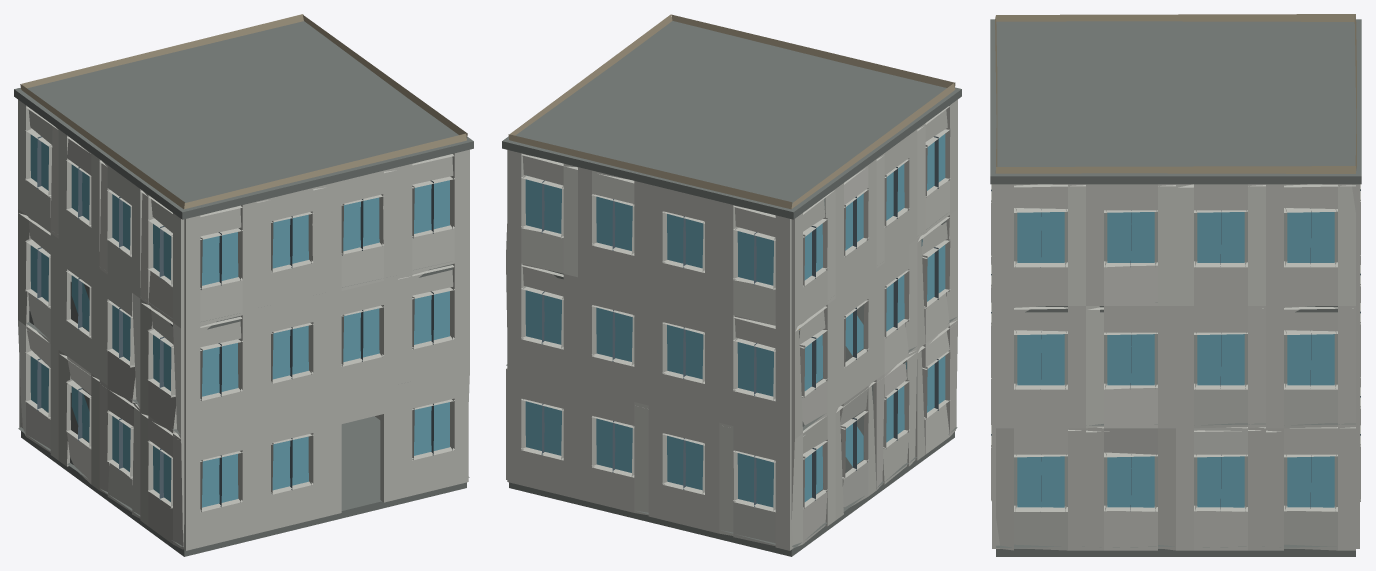
Rendered from architecture-office.lod1.glb.
3 renders of one model, left to right at view 1: azimuth 30°, elevation 25°; view 2: azimuth 150°, elevation 25°; view 3: azimuth 270°, elevation 25°, orthographic. The views are drawn at different scales.
Parts seen in each view (by area): view 1: architecture-office__body; view 2: architecture-office__body; view 3: architecture-office__body.
Part boxes in pixels (<box>): architecture-office__body: <box>14,14,473,556</box>; architecture-office__body: <box>502,14,961,556</box>; architecture-office__body: <box>990,14,1361,556</box>.
Bounding box in the file's own units: 8.25 × 9.58 × 8.25.
